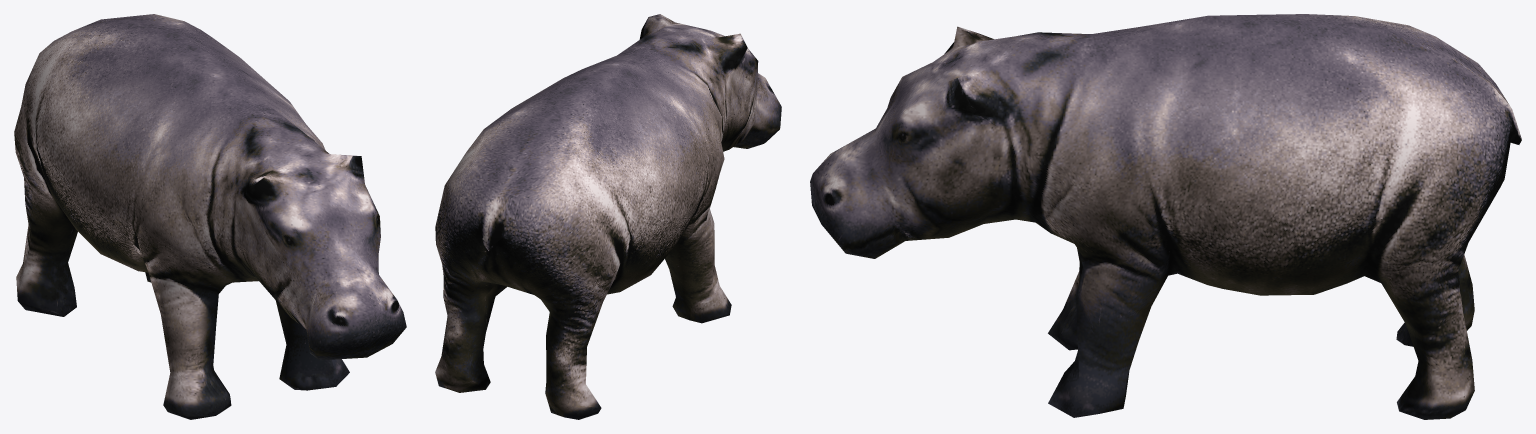
File: uploads_files_5014709_Hippopotamus_Low_Poly.fbx
The picture shows the model from 3 angles, left to right: view 1: azimuth 30°, elevation 25°; view 2: azimuth 150°, elevation 25°; view 3: azimuth 270°, elevation 25°; orthographic projection. The views are drawn at different scales.
Parts seen in each view (by area): view 1: Hippopotamus_Low_Poly; view 2: Hippopotamus_Low_Poly; view 3: Hippopotamus_Low_Poly.
Part boxes in pixels (<box>): Hippopotamus_Low_Poly: <box>14,14,406,419</box>; Hippopotamus_Low_Poly: <box>435,14,781,419</box>; Hippopotamus_Low_Poly: <box>810,14,1521,419</box>.
Bounding box in the file's own units: 144 × 198 × 360.
